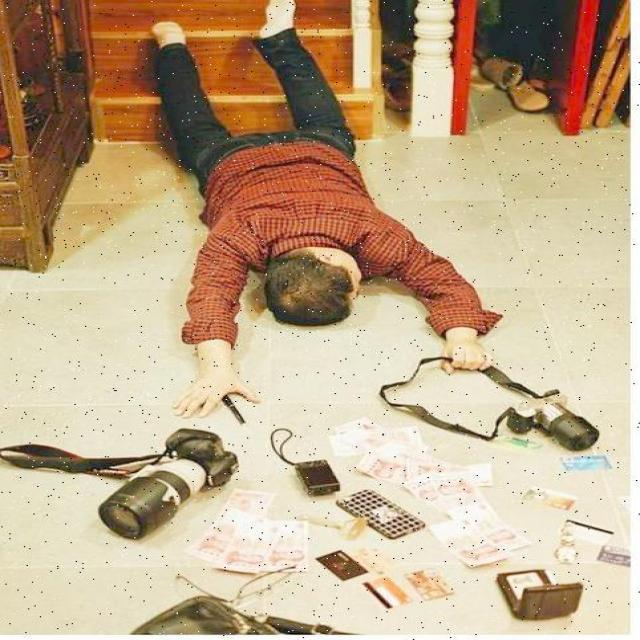fall: (135, 9, 492, 378)
